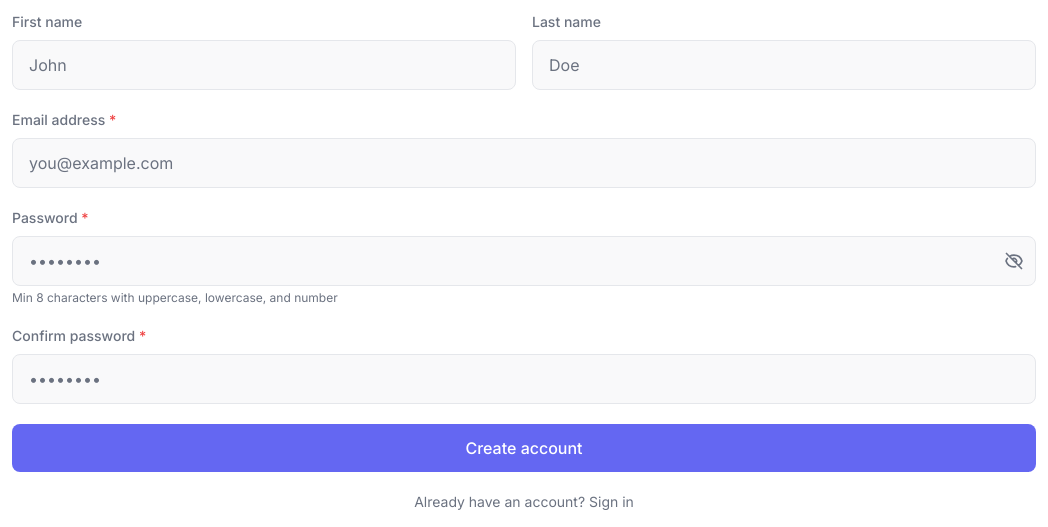
Test: RegisterForm › should show the success screen after successful registration
Type "jane@example.com" into the field labelled "Email address *" at (524, 163), box [12,138,1036,188]
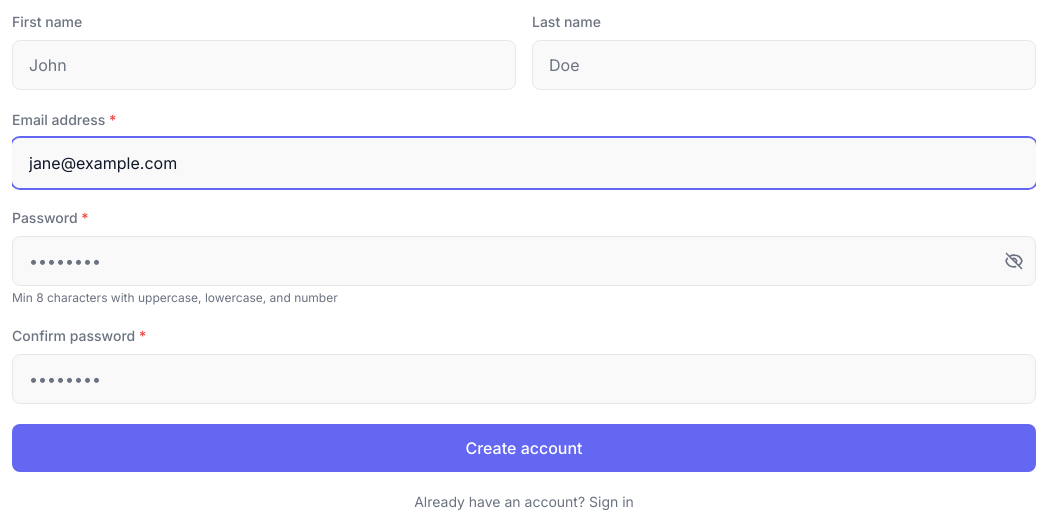
Type "Password1" into the password field labelled "Password *" at (524, 261), box [12,236,1036,286]
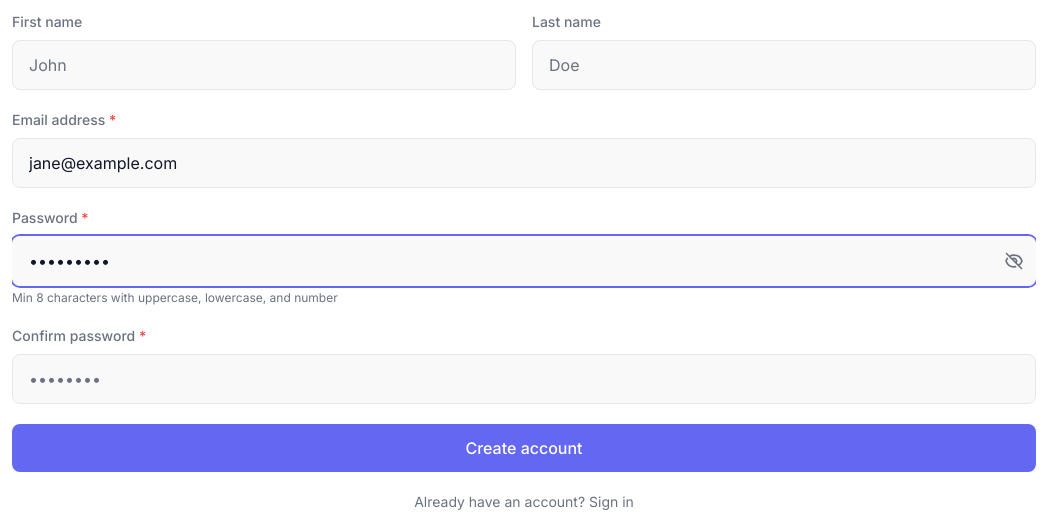
Type "Password1" into the password field labelled "Confirm password *" at (524, 379), box [12,354,1036,404]
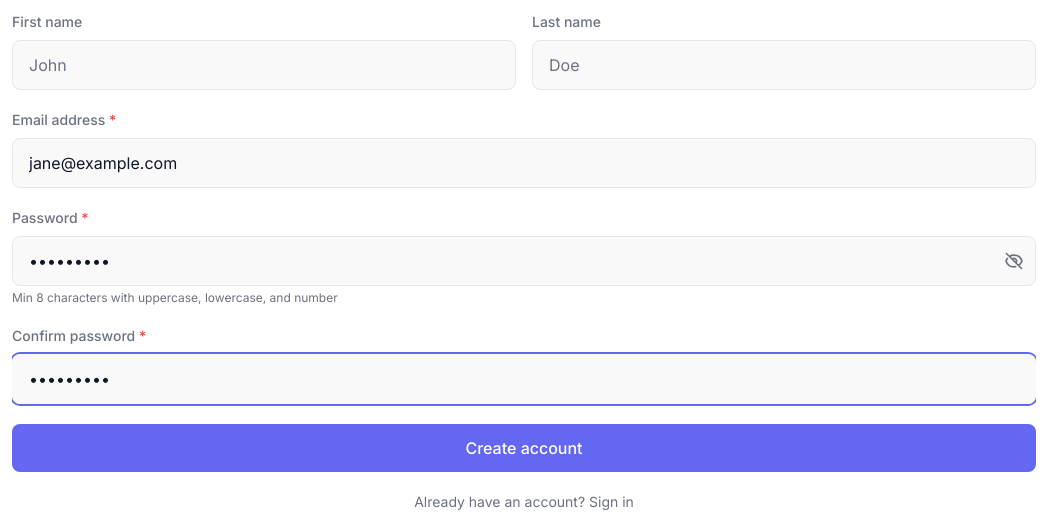
Click the button "Create account" at (524, 448), box [12,424,1036,472]
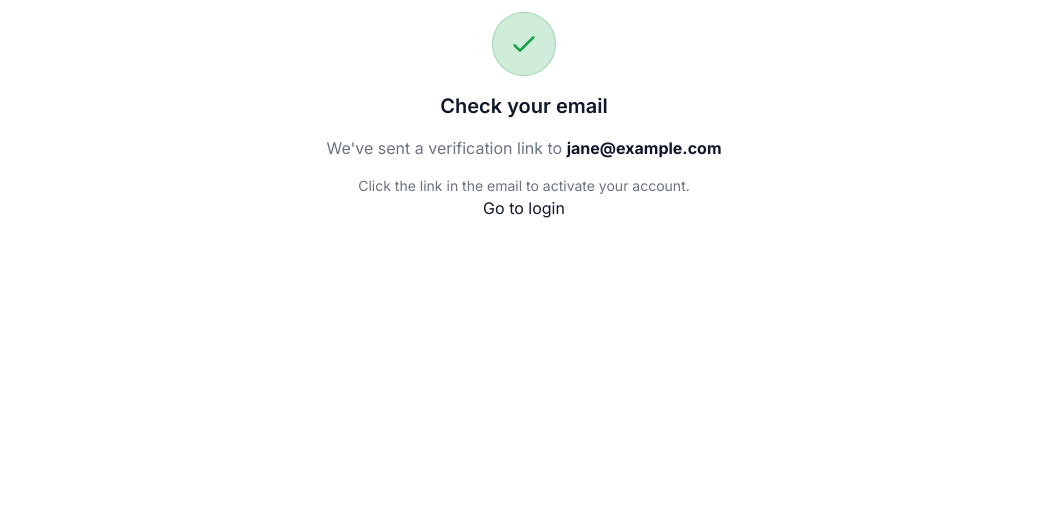
expect the heading "Check your email" is shown: met, box [440,94,608,118]
